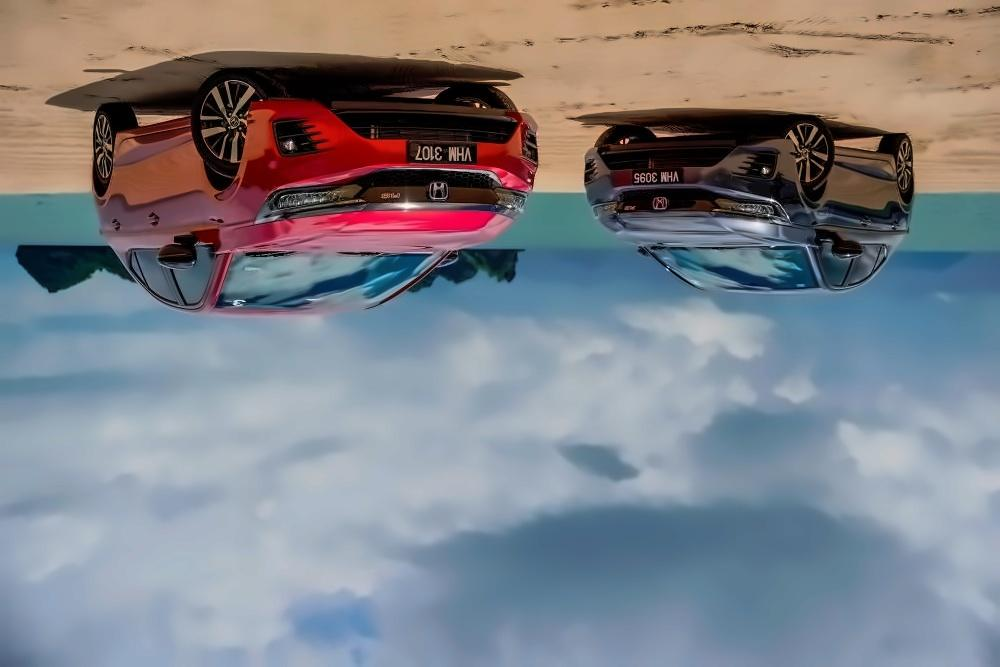Car hood: (219, 207, 513, 262), (604, 216, 802, 254)
Driver-s door - -F-R-: (798, 122, 869, 299)
Fender - -F-L-: (191, 98, 258, 257)
Fender - -F-R-: (783, 125, 830, 250)
Front bumper: (246, 91, 541, 194), (576, 136, 801, 212)
Headlight - -L-: (253, 185, 368, 223), (590, 198, 630, 226)
Headlight - -R-: (708, 190, 792, 230), (496, 187, 532, 222)
Passenger-s door - -F-L-: (138, 89, 233, 325)
Passenger-s door - -R-L-: (101, 113, 189, 316)
Passenger-s door - -R-R-: (837, 122, 904, 293)
Side bumper - -L-: (104, 106, 195, 186)
Side mirror - -L-: (156, 237, 206, 271)
Side mirror - -R-: (817, 228, 862, 260)
